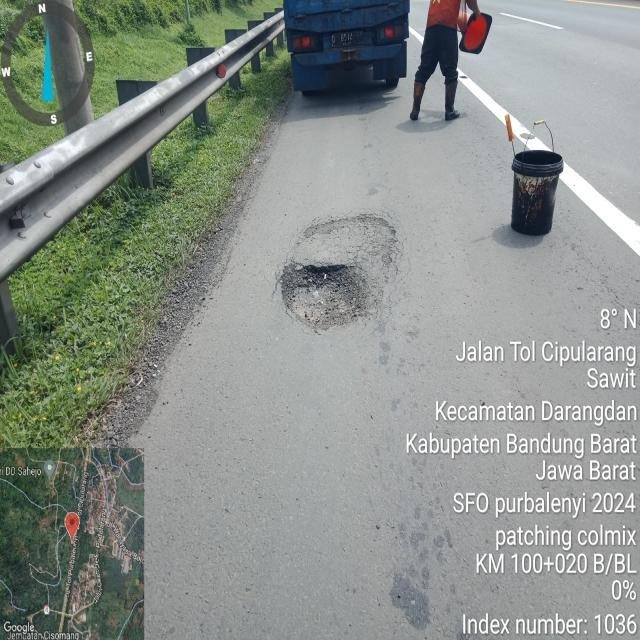Buraco: (276, 259, 372, 333)
